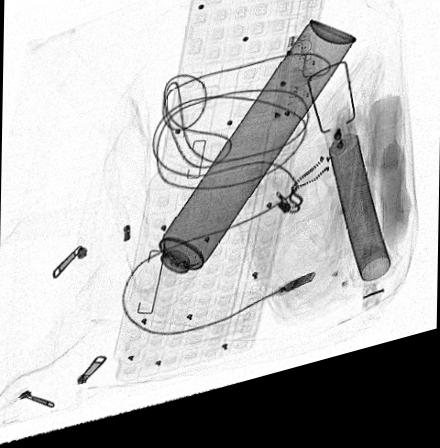Sprayer: (133, 36, 354, 316)
